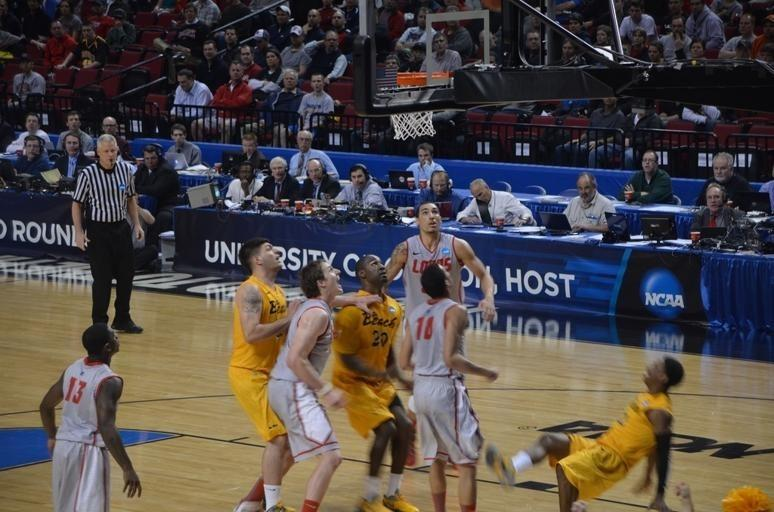basketball-player: (484, 355, 685, 511), (267, 240, 384, 504), (397, 257, 501, 512), (328, 243, 426, 512), (227, 234, 307, 512), (37, 318, 146, 512), (381, 200, 502, 348)
